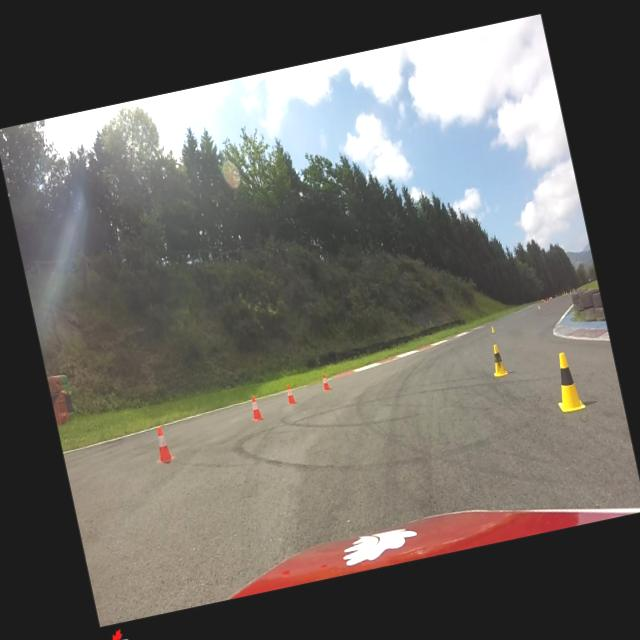orange_cone: (150, 424, 176, 464), (248, 394, 264, 422), (284, 383, 296, 404), (320, 373, 330, 391)
unknown_cone: (490, 323, 496, 332), (536, 304, 540, 310)
yellow_cone: (547, 349, 586, 414), (487, 342, 508, 377)
